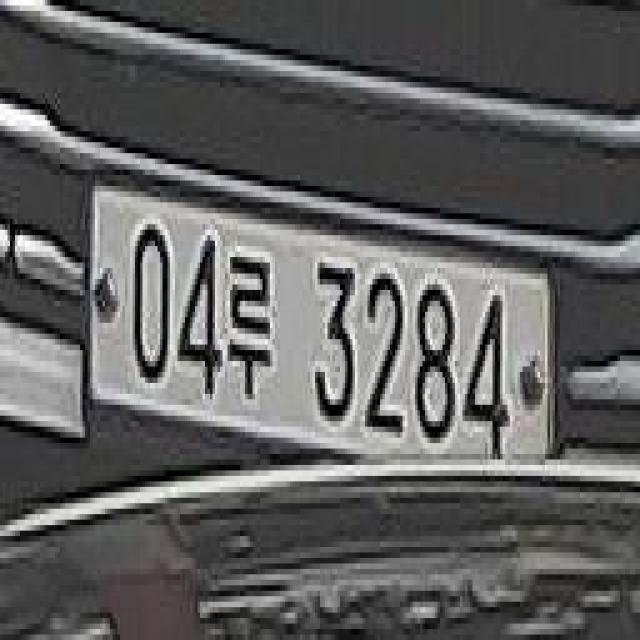illegal_plate: (83, 162, 564, 504)
